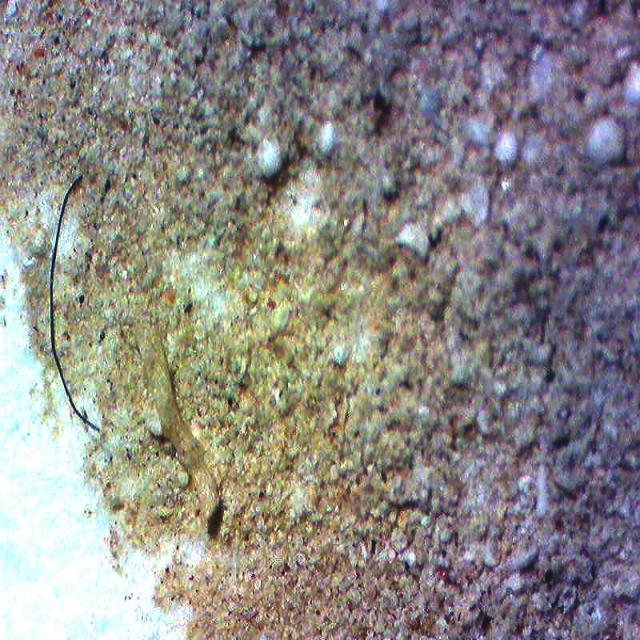microplastic: (49, 174, 100, 431)
